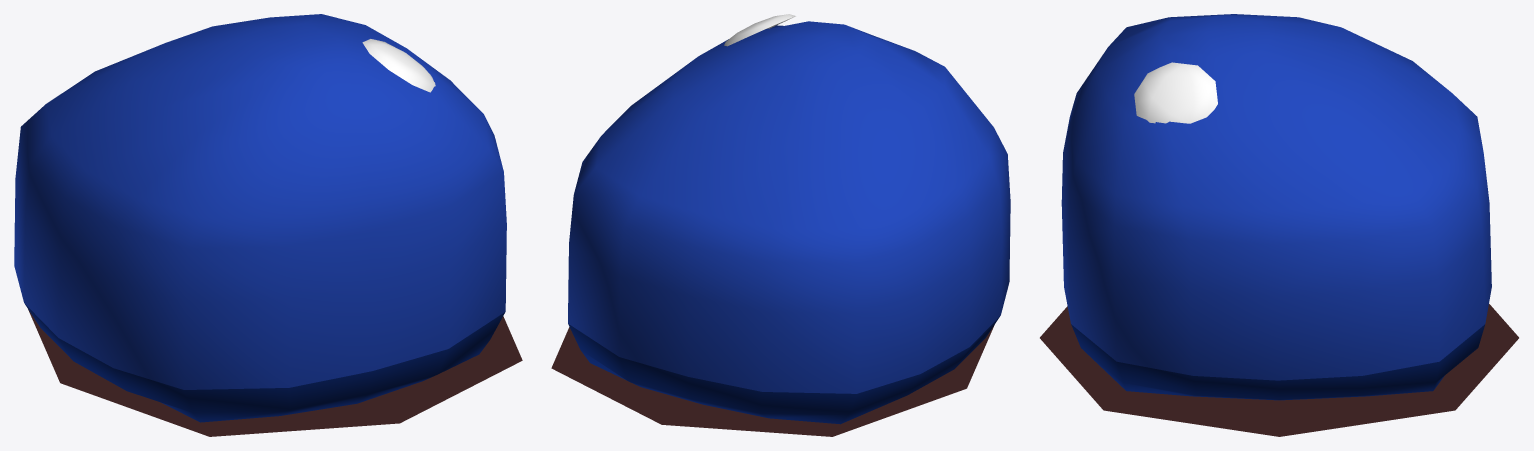
Rendered from Oozium238Mesh.CobaltIce.glb.
3 views of the same model, side by side, from view 1: azimuth 30°, elevation 25°; view 2: azimuth 150°, elevation 25°; view 3: azimuth 270°, elevation 25° (orthographic). The views are drawn at different scales.
Parts seen in each view (by area): view 1: Oozium238Mesh.CobaltIce; view 2: Oozium238Mesh.CobaltIce; view 3: Oozium238Mesh.CobaltIce.
Boxes of the visible parts, bbox=[...] form: Oozium238Mesh.CobaltIce: bbox=[14, 14, 522, 436]; Oozium238Mesh.CobaltIce: bbox=[551, 14, 1010, 436]; Oozium238Mesh.CobaltIce: bbox=[1040, 14, 1518, 436].
Size of the model in its own units: 2.04 by 1.44 by 2.07.
1 material, 1 textured.
